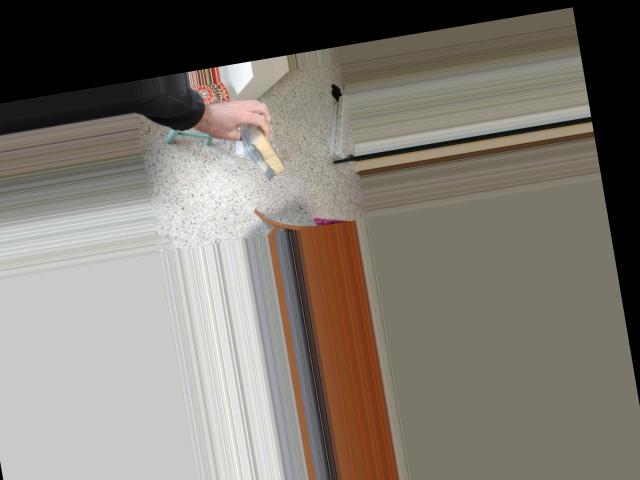cheese: (229, 105, 292, 189)
